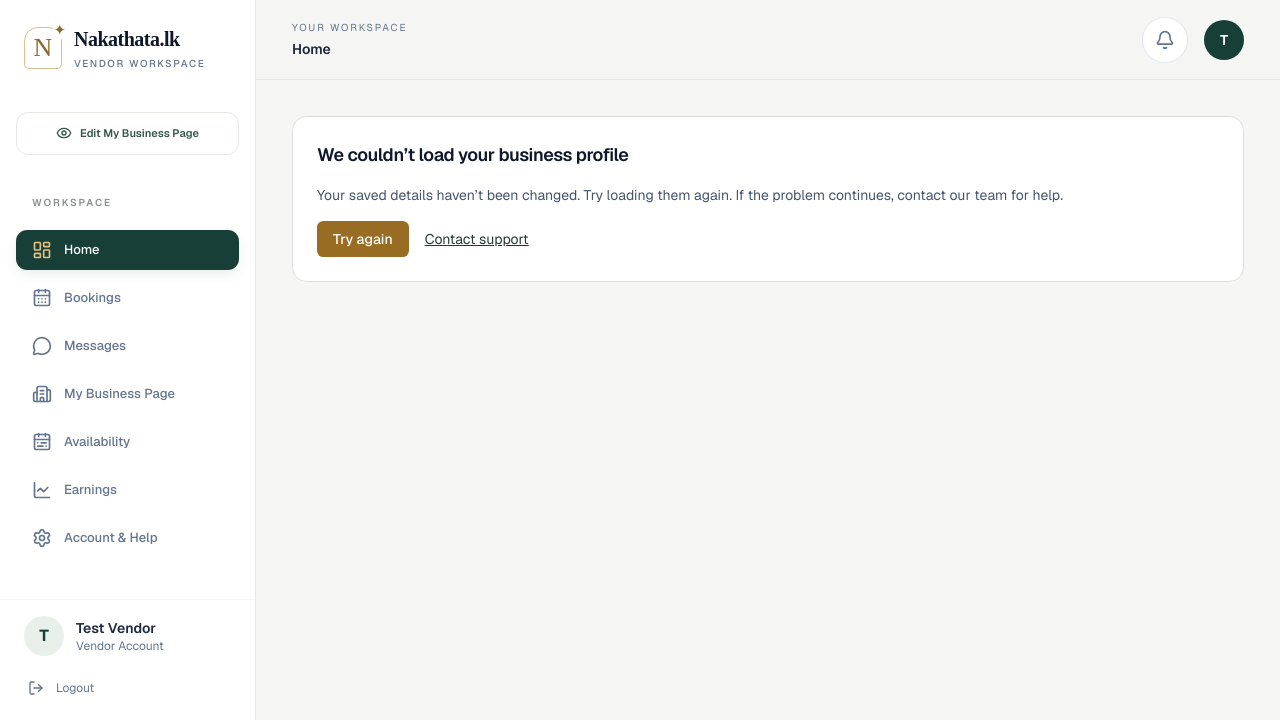
Test: Vendor dashboard loading recovery › retries a failed business profile without changing approval or saved data
This screenshot has width=1280, height=720.
Expected: the heading "We couldn’t load your business profile" is shown, [317, 143, 628, 166]
Click the button "Try again" at (363, 239), box [317, 221, 409, 257]
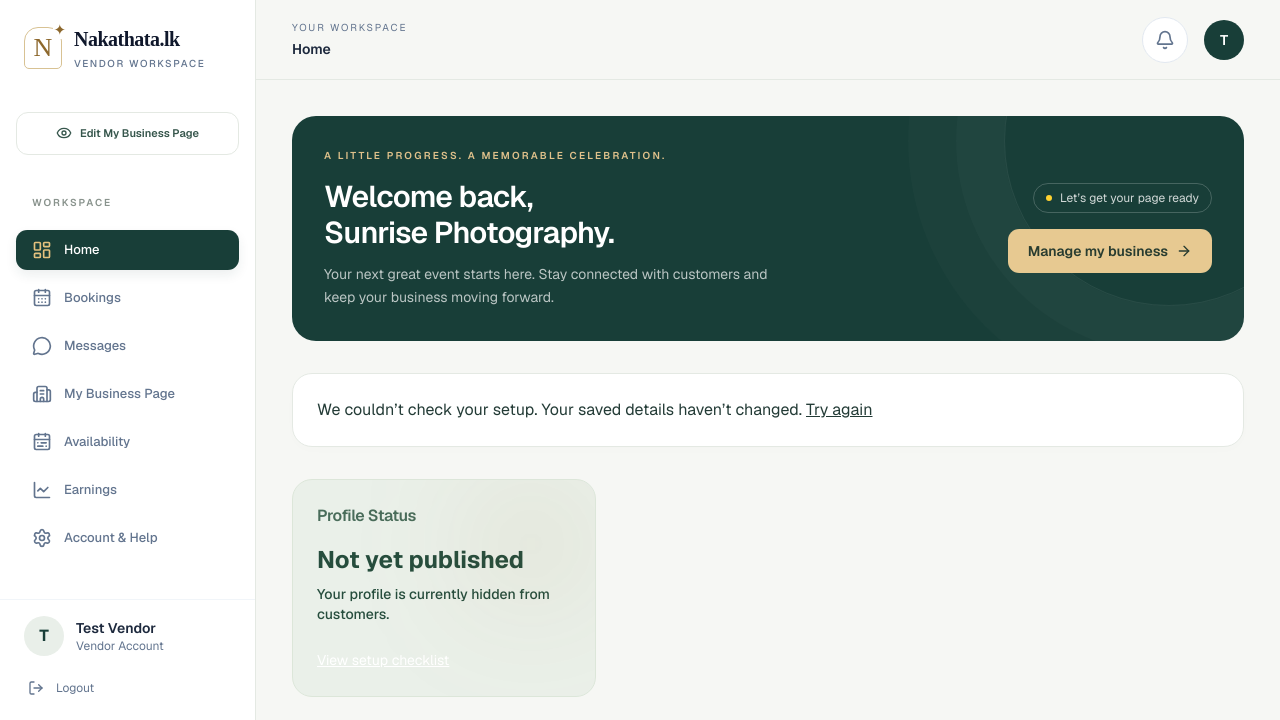
Now the heading "Welcome back,Sunrise Photography." is shown, box [324, 177, 614, 252]
Now the link "Manage my business" is shown, box [1008, 229, 1212, 273]
